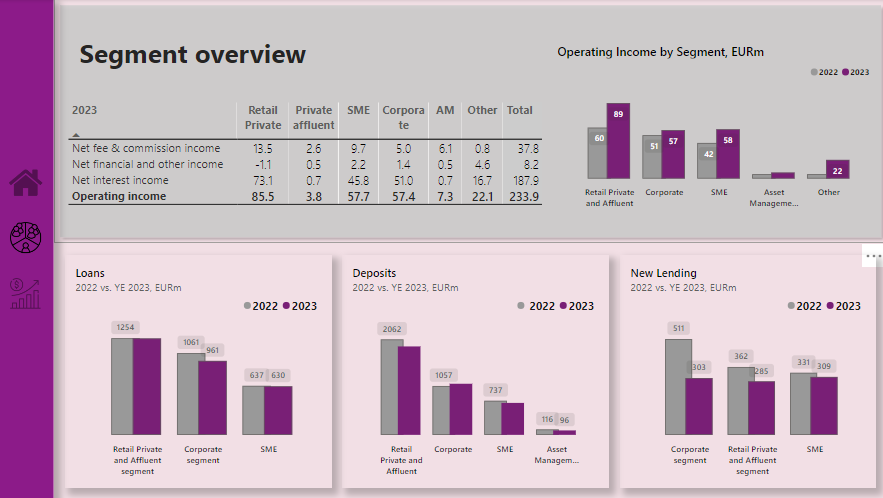

Layout of this report page (visuals, bound fields, positions):
{"tool":"powerbi","page":{"name":"Segments","canvas":[1280,720],"ordinal":1},"visuals":[{"type":"shape","box":[80,0,1200,352],"z":0},{"type":"textbox","box":[112,48,720,64],"z":1000},{"type":"pivotTable","fields":{"Rows":["Table.2023"],"Values":["Sum(Table. Retail Pvt)","Sum(Table.Private affuent)","Sum(Table.SME)","Sum(Table.Corporate)","Sum(Table.AM)","Sum(Table.Other)","Sum(Table.Total)"]},"box":[96,144,704,192],"z":2000},{"type":"clusteredColumnChart","title":"Deposits","fields":{"Category":["Deposits (2).Areas"],"Y":["Sum(Deposits (2).2022)","Sum(Deposits (2).2023)"]},"box":[496,368,384,336],"z":3000},{"type":"clusteredColumnChart","title":"Operating Income by Segment, EURm","fields":{"Category":["Operating income.Segment"],"Y":["Sum(Operating income.2022)","Sum(Operating income.2023)"]},"box":[800,48,464,272],"z":4000},{"type":"clusteredColumnChart","title":"Loans","fields":{"Category":["Loans.Segment"],"Y":["Sum(Loans.2022)","Sum(Loans.2023)"]},"box":[96,368,384,336],"z":5000},{"type":"clusteredColumnChart","title":"New Lending ","fields":{"Y":["Sum(New Lending.2022)","Sum(New Lending.2023)"],"Category":["New Lending.Segment"]},"box":[896,368,368,336],"z":6000},{"type":"shape","box":[0,0,80,720],"z":7000},{"type":"actionButton","box":[16,240,48,48],"z":8000},{"type":"actionButton","box":[16,400,47,47],"z":9000},{"type":"actionButton","box":[16,320,48,48],"z":10000}]}

Visuals, with their boxes on the page's 1280x720 design canvas (x1, y1, x2, y2). These are canvas units, not pixel positions in the 883x498 screenshot, which may show the page scaled, cropped or inside an application window:
shape: box(80, 0, 1280, 352)
textbox: box(112, 48, 832, 112)
pivotTable - Table.2023 x Sum(Table. Retail Pvt): box(96, 144, 800, 336)
"Deposits" clusteredColumnChart: box(496, 368, 880, 704)
"Operating Income by Segment, EURm" clusteredColumnChart: box(800, 48, 1264, 320)
"Loans" clusteredColumnChart: box(96, 368, 480, 704)
"New Lending " clusteredColumnChart: box(896, 368, 1264, 704)
shape: box(0, 0, 80, 720)
actionButton: box(16, 240, 64, 288)
actionButton: box(16, 400, 63, 447)
actionButton: box(16, 320, 64, 368)
